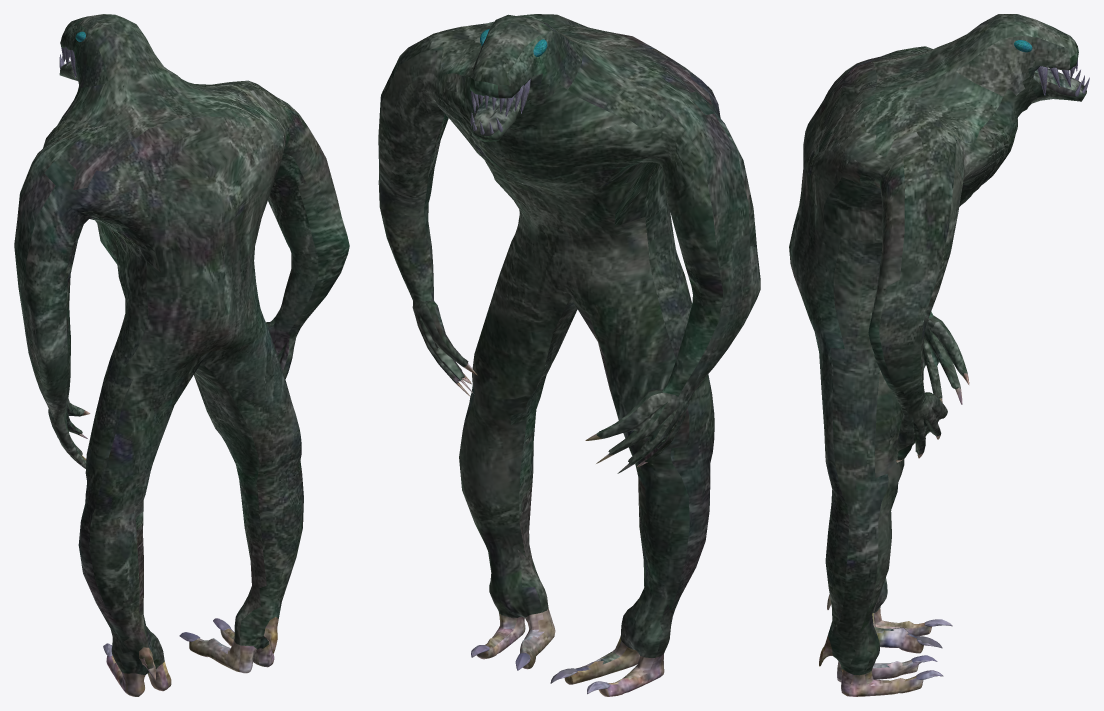
File: Andar.0002.obj
3 views of the same model, side by side, from view 1: azimuth 30°, elevation 25°; view 2: azimuth 150°, elevation 25°; view 3: azimuth 270°, elevation 25° (orthographic). The views are drawn at different scales.
Visible parts, largest first — view 1: polySurface28; view 2: polySurface28; view 3: polySurface28.
Boxes of the visible parts, left/top/right/bottom form: polySurface28: left=14, top=14, right=349, bottom=696; polySurface28: left=378, top=14, right=760, bottom=696; polySurface28: left=789, top=14, right=1089, bottom=696.
Bounding box in the file's own units: 1.25 × 2.32 × 0.9896.
4 materials, 4 textured.
